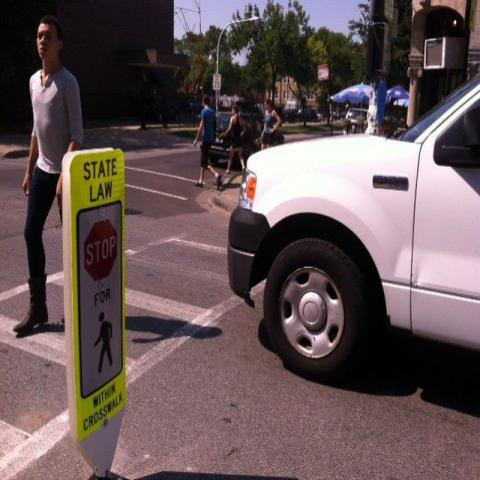car: (208, 111, 264, 162), (344, 108, 368, 134), (298, 110, 303, 118), (316, 114, 322, 120)
truck: (224, 72, 480, 382)
